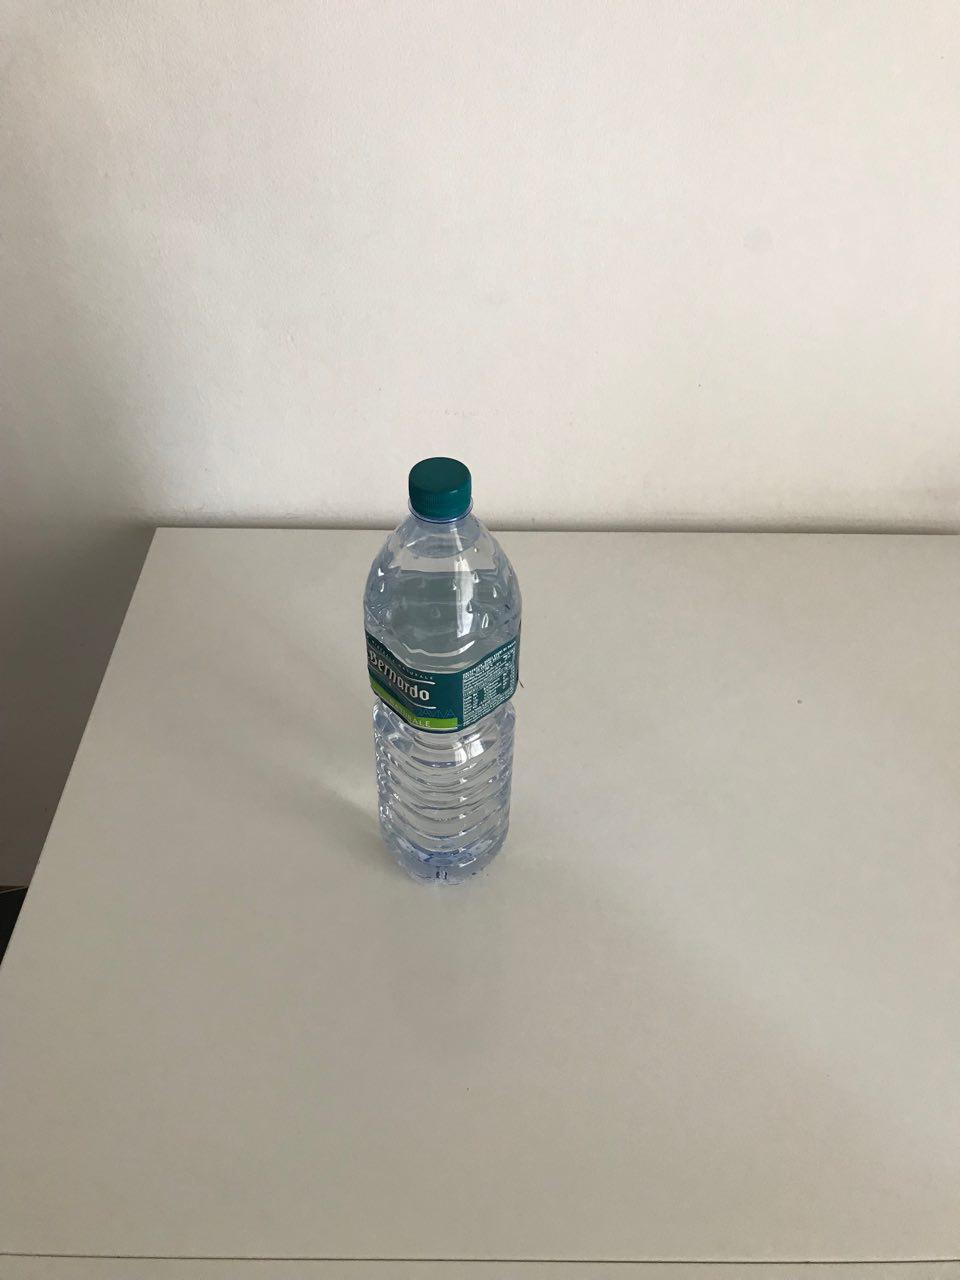san_bernardo: (362, 456, 525, 890)
